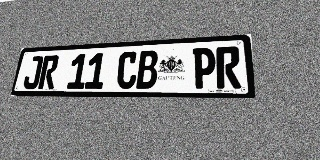1: (84, 53, 107, 89), (67, 54, 89, 89)
B: (136, 50, 159, 89)
C: (116, 51, 138, 89)
J: (22, 56, 44, 89)
P: (192, 47, 216, 89)
R: (216, 46, 241, 88), (38, 55, 60, 89)
